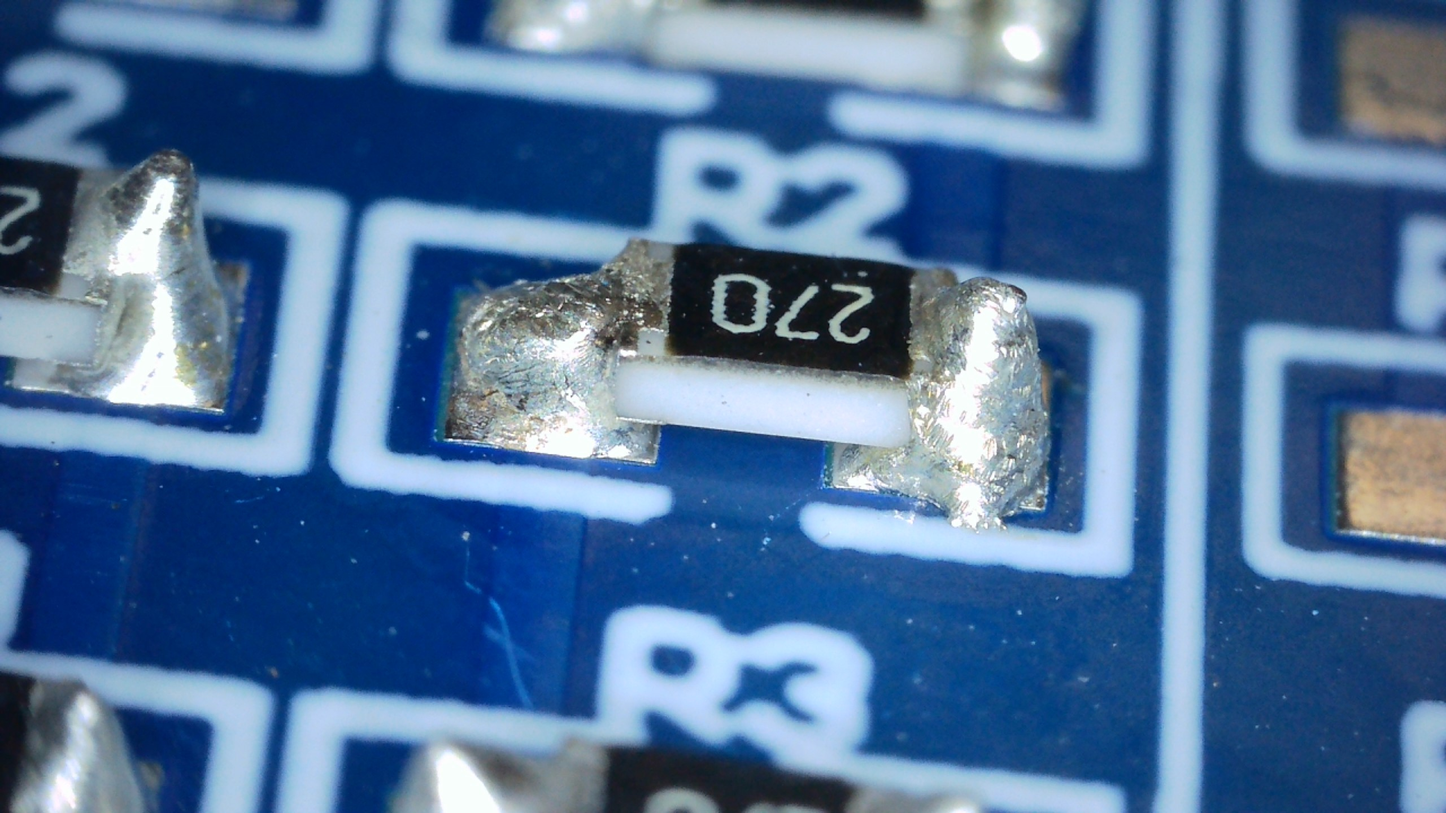NG: (836, 276, 1049, 529), (461, 241, 672, 420)
